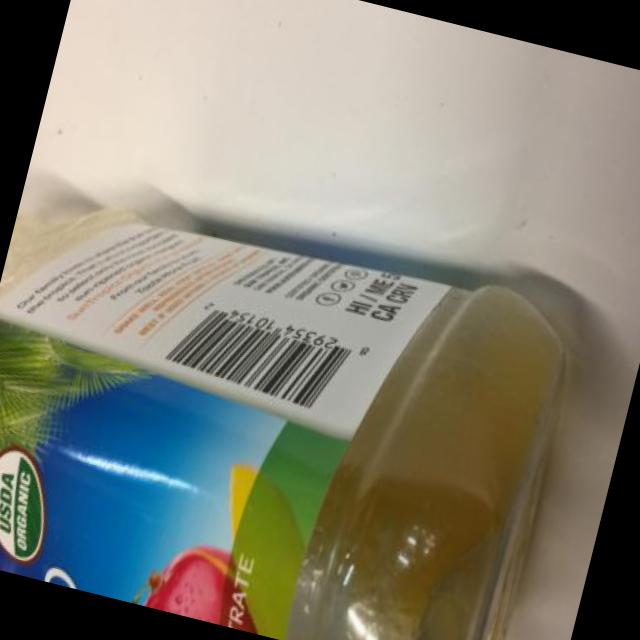Recycle: (0, 176, 589, 640)
